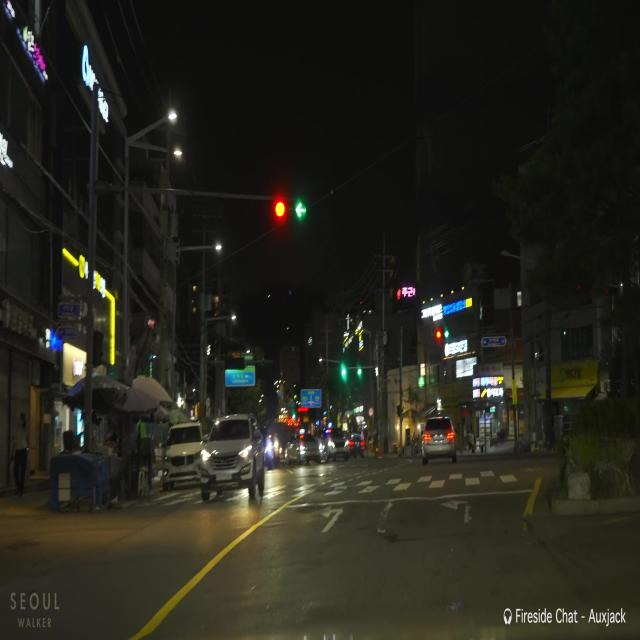Red Light: (274, 198, 286, 218)
